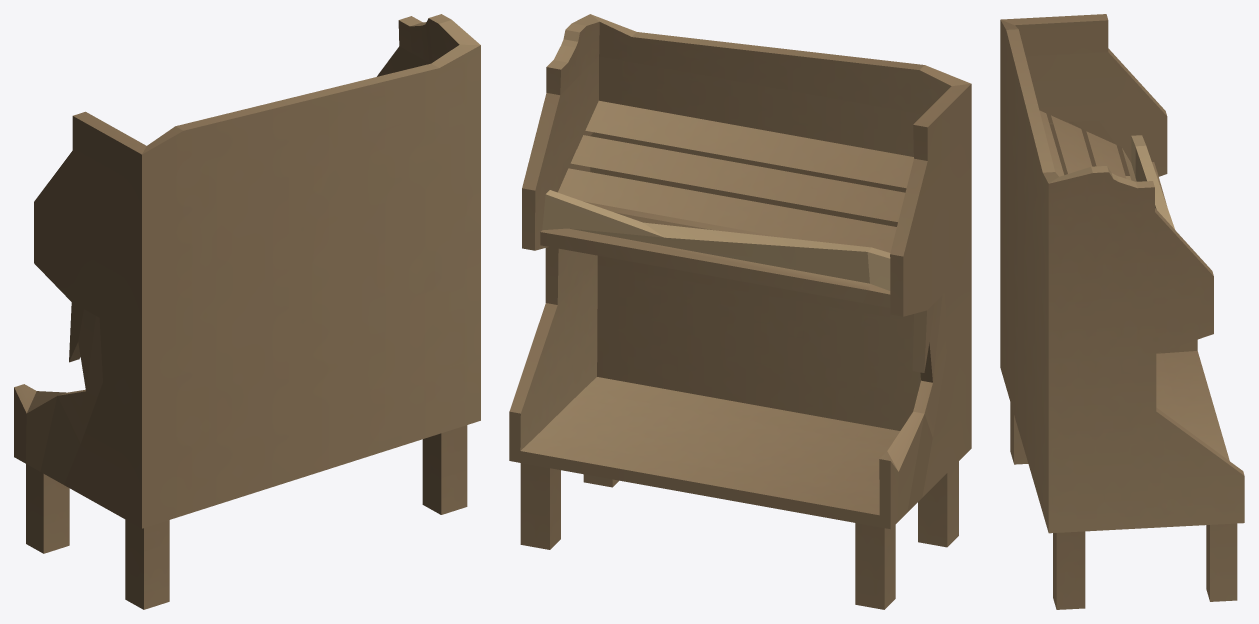
File: leaflet_holder_1.glb
3 views of the same model, side by side, from view 1: azimuth 30°, elevation 25°; view 2: azimuth 150°, elevation 25°; view 3: azimuth 270°, elevation 25° (orthographic). The views are drawn at different scales.
Visible parts, largest first — view 1: leaflet_holder_1; view 2: leaflet_holder_1; view 3: leaflet_holder_1.
Boxes of the visible parts, box(x1,y1,x2,y2) form: leaflet_holder_1: box(14, 14, 480, 609); leaflet_holder_1: box(509, 14, 971, 609); leaflet_holder_1: box(1000, 14, 1244, 609).
Size of the model in its own units: 0.8626 by 1 by 0.5064.
Materials: 1 (1 with a texture image).
